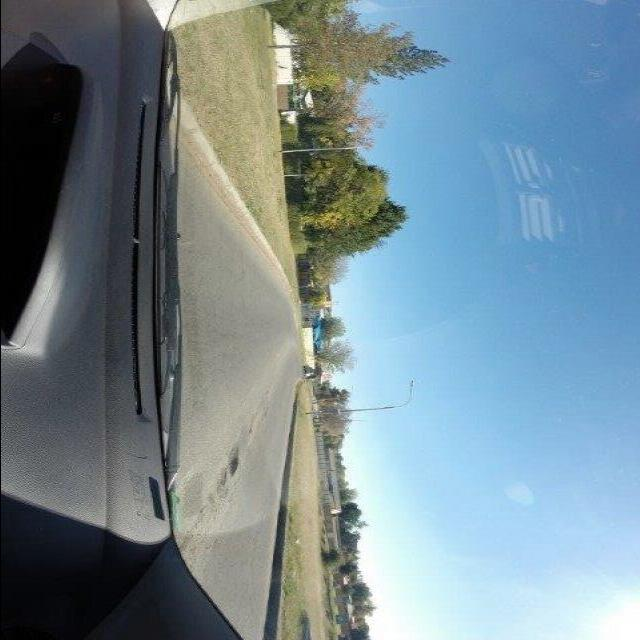jalan retak: (178, 470, 228, 551), (258, 394, 273, 422)
lubang: (219, 439, 241, 486), (244, 423, 258, 438)
